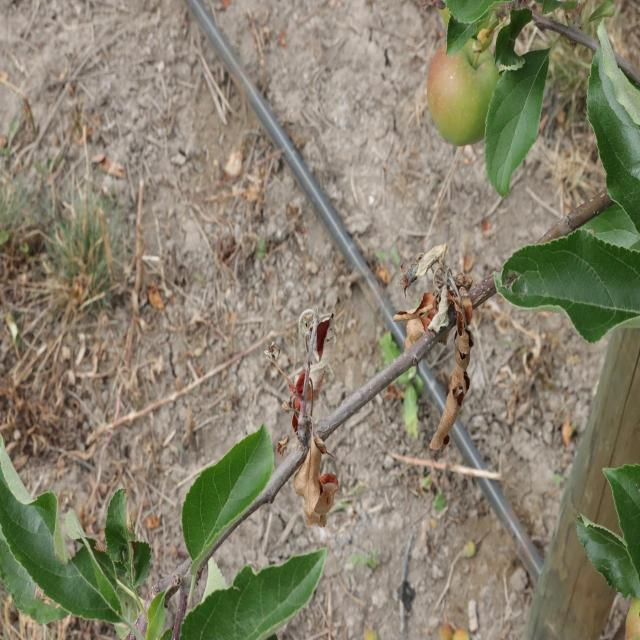-FireBlight-: (387, 238, 481, 454), (260, 322, 348, 527)
